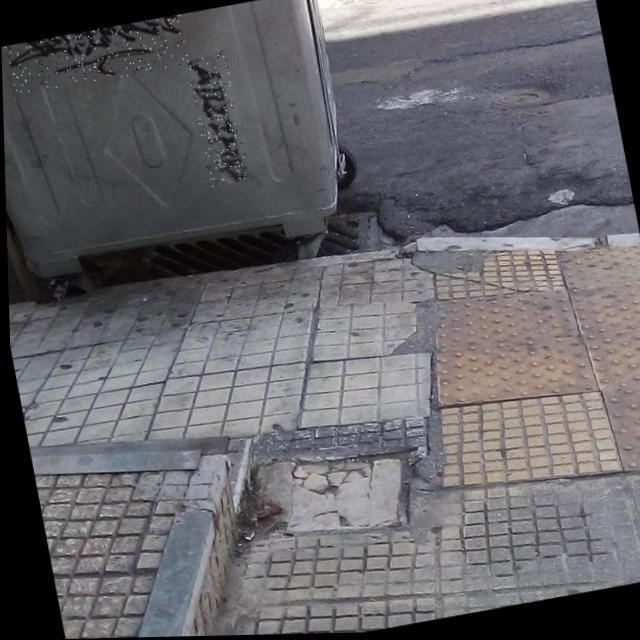-: (2, 15, 190, 96), (186, 54, 248, 188)
